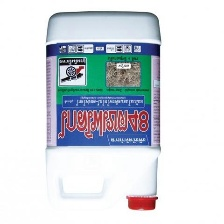insecticide: (33, 9, 167, 218)
